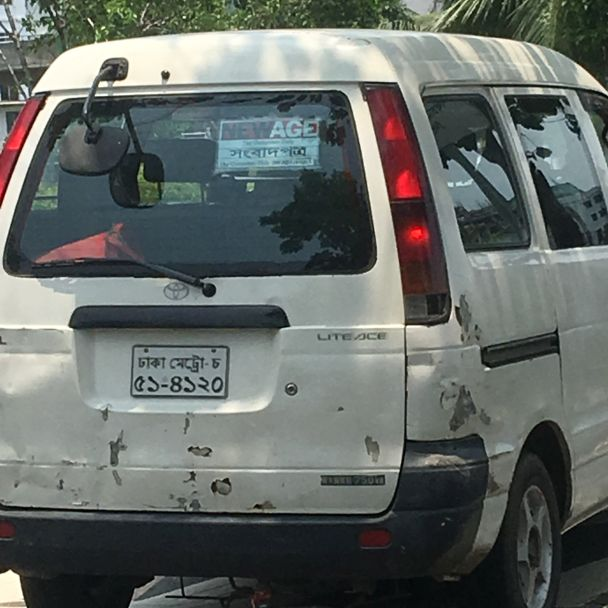minibus: (5, 13, 602, 608)
